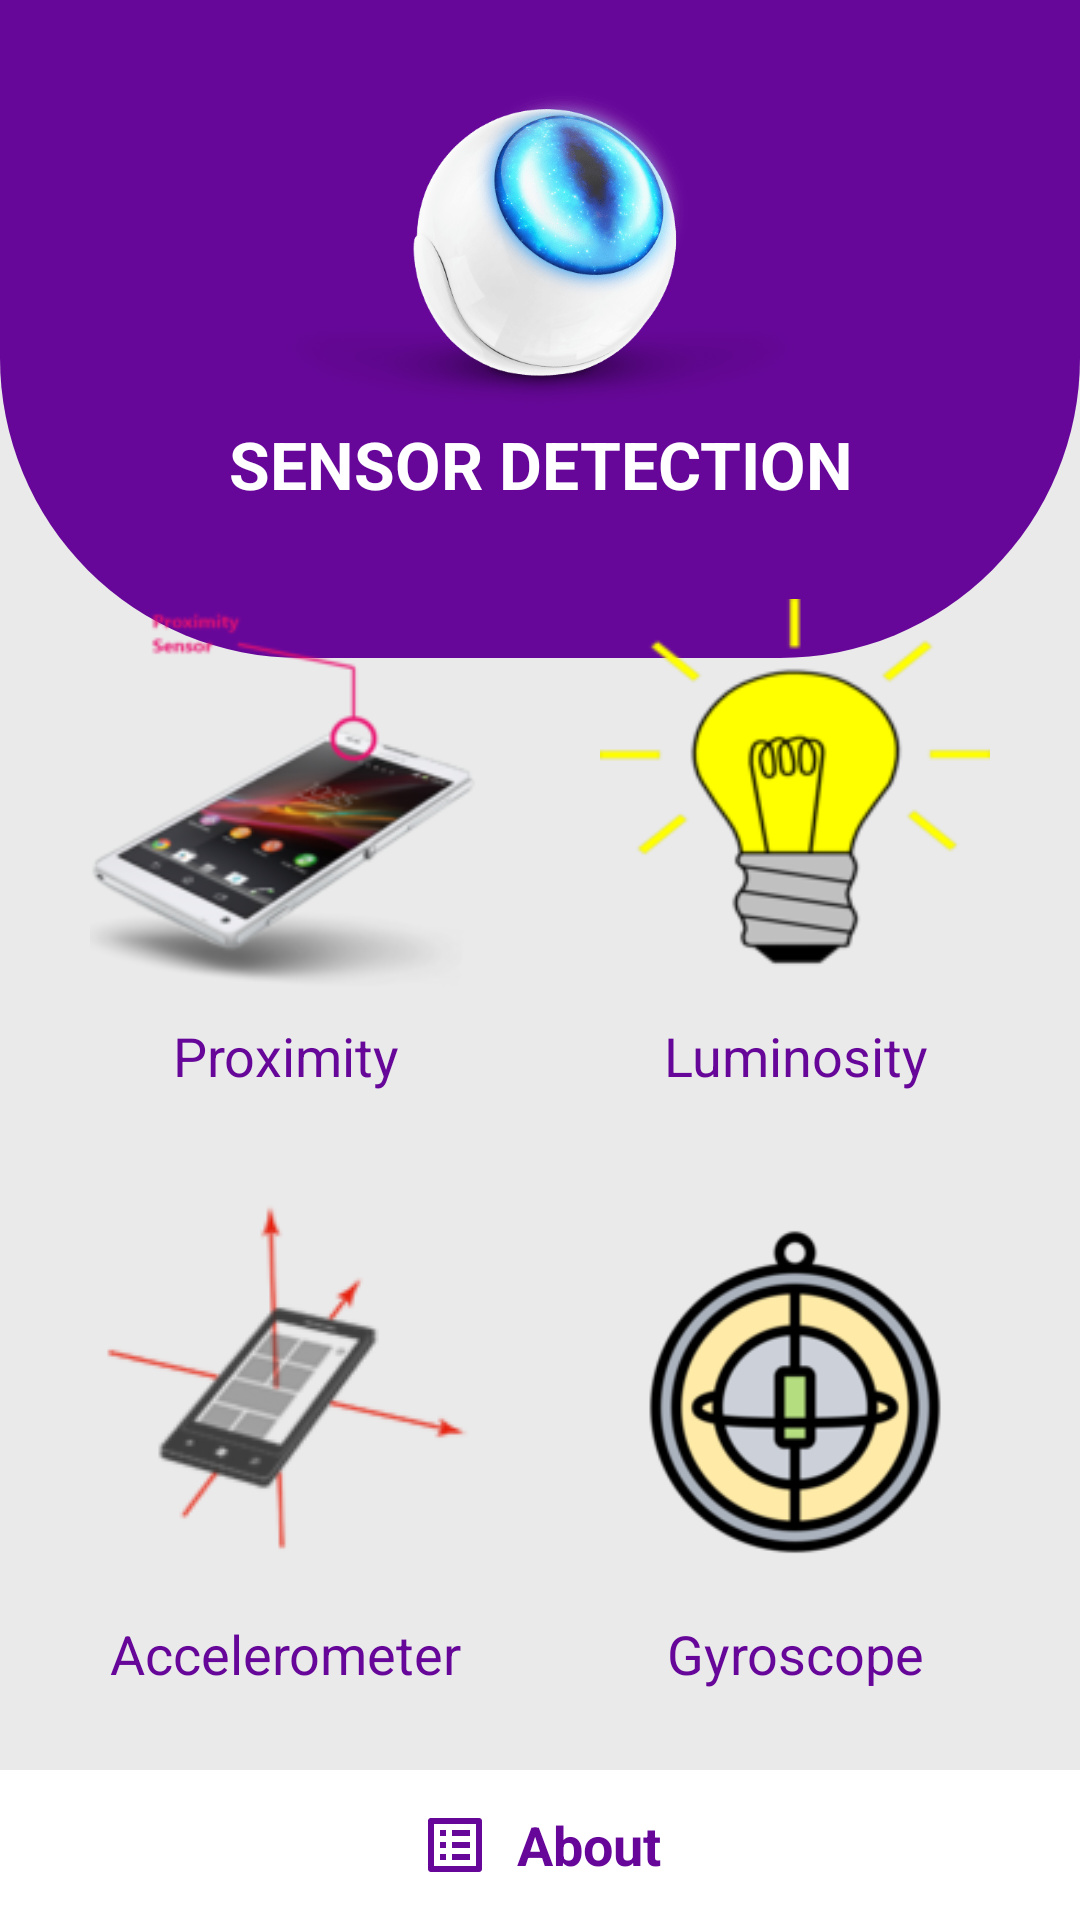

Icon bounding boxes for this 1080w x 1920h phone screenshot, format (x1, y1, x2, y2):
motion sensor: (413, 103, 677, 389)
